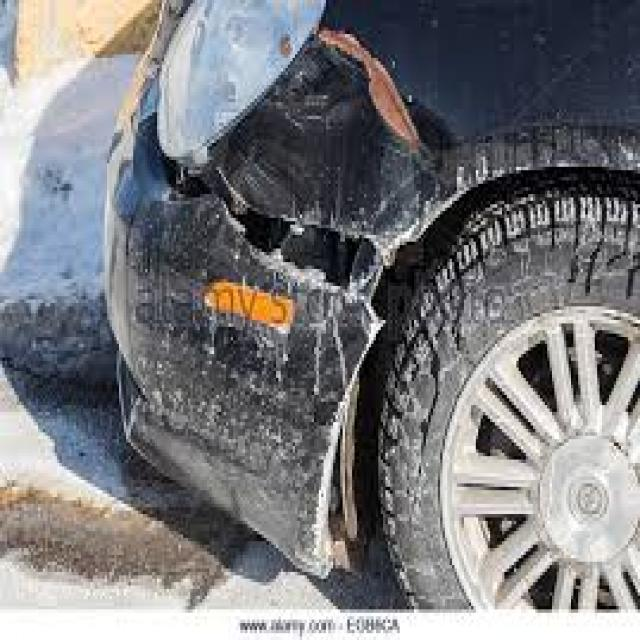minor: (60, 74, 508, 523)
